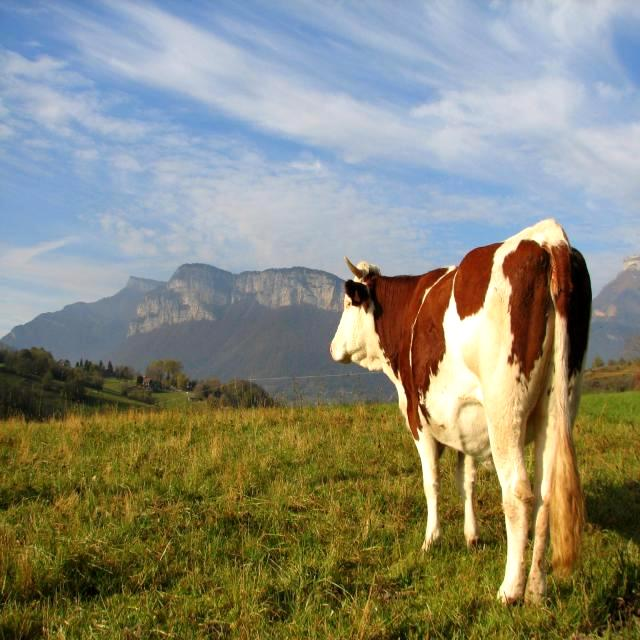COW: (330, 220, 591, 603)
